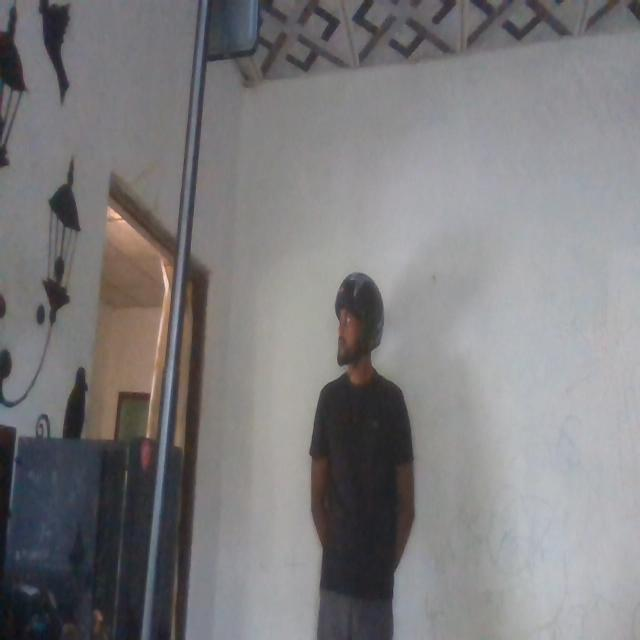Helmet_Wearer: (327, 270, 385, 369)
Person: (302, 274, 418, 640)
